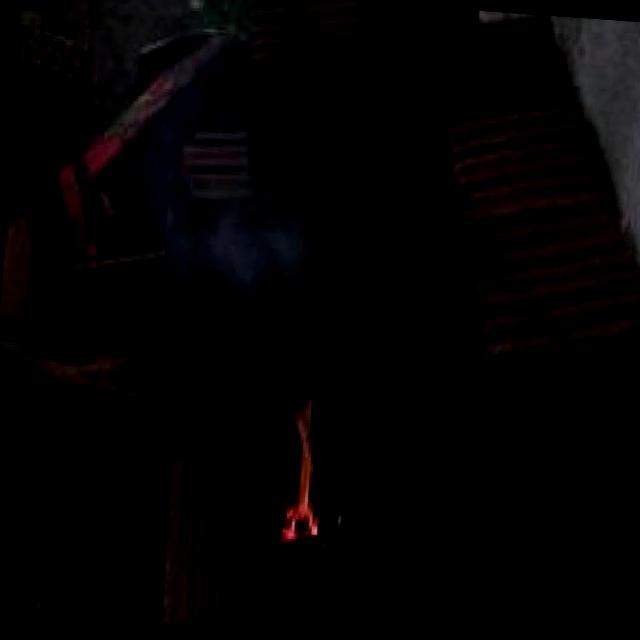fire: (260, 384, 358, 569)
